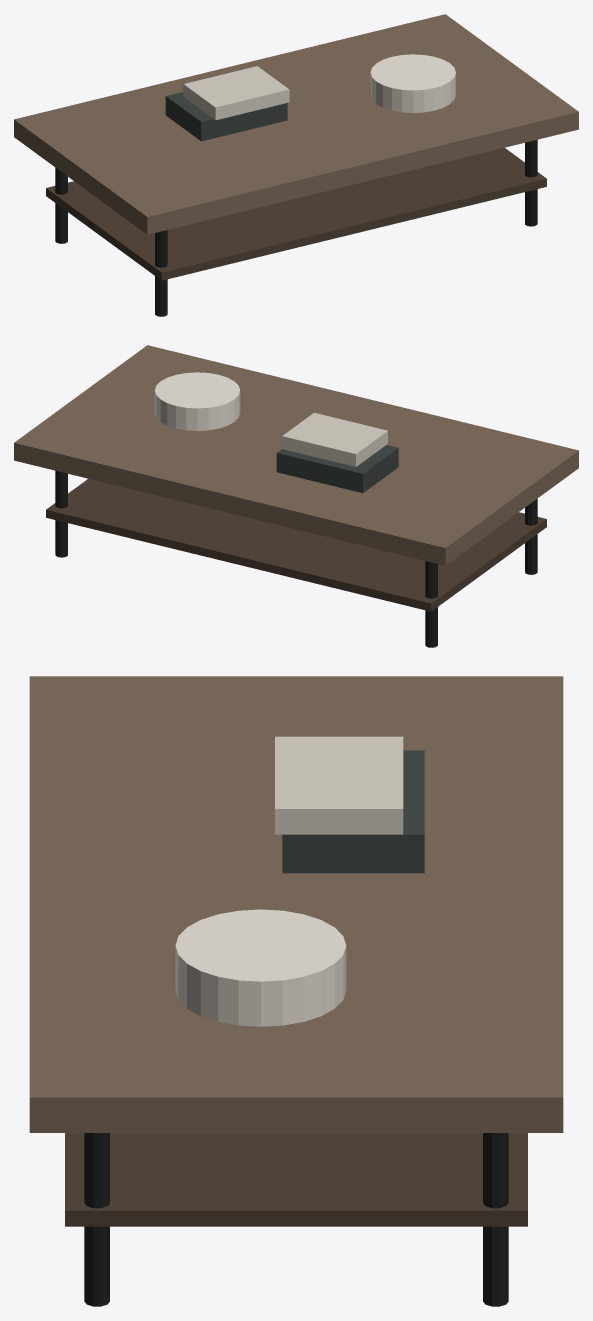
The picture shows the model from 3 angles, top to bottom: view 1: azimuth 30°, elevation 25°; view 2: azimuth 150°, elevation 25°; view 3: azimuth 270°, elevation 25°; orthographic projection. The views are drawn at different scales.
Visible parts, largest first — view 1: coffee-table; view 2: coffee-table; view 3: coffee-table.
Part boxes in pixels (<box>): coffee-table: <box>14,14,578,316</box>; coffee-table: <box>14,345,578,647</box>; coffee-table: <box>29,676,563,1306</box>.
Size of the model in its own units: 1.4 by 0.465 by 0.75.
